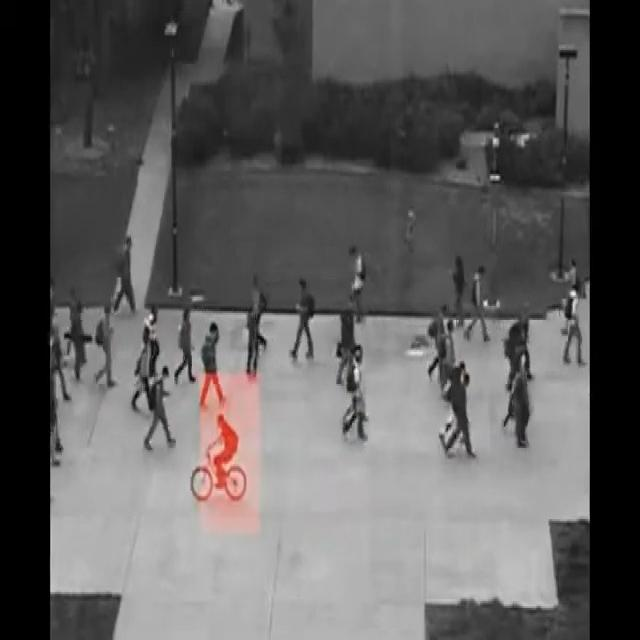anamoly: (183, 409, 255, 519)
